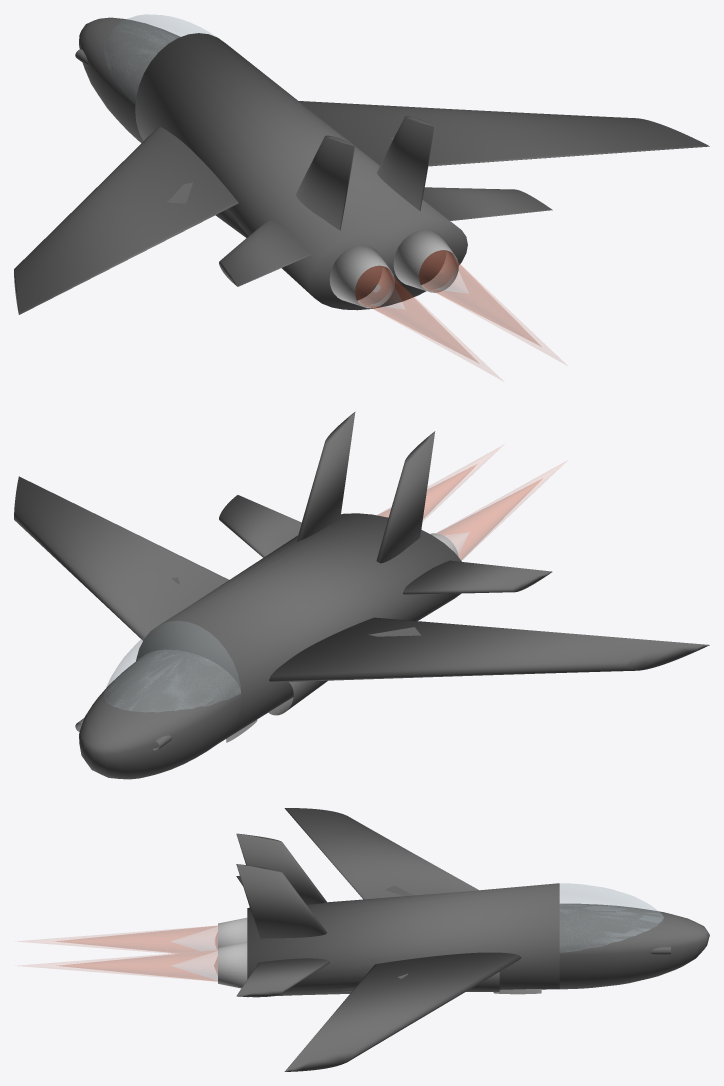
The model's file is jetv2.glb.
3 renders of one model, top to bottom at view 1: azimuth 30°, elevation 25°; view 2: azimuth 150°, elevation 25°; view 3: azimuth 270°, elevation 25°, orthographic. The views are drawn at different scales.
Parts seen in each view (by area): view 1: Cone, NACA0010, NACA0010.001, Sphere, Sphere.001, NACA0010.005, NACA0010.004, NACA0010.003, NACA0010.002, Cone.003, Cone.002, Cone.001 (+3 smaller); view 2: Cone, NACA0010, Sphere, NACA0010.001, Sphere.001, NACA0010.005, NACA0010.003, NACA0010.004, NACA0010.002, Cone.001, Cone.007; view 3: Cone, NACA0010.001, Sphere, NACA0010, Sphere.001, NACA0010.004, NACA0010.005, NACA0010.002, Cone.007, Cone.001, Cone.003, Cone.002 (+1 smaller).
Boxes of the visible parts, box(x1,y1,x2,y2) form: Cone: box(135, 33, 467, 310); NACA0010: box(14, 126, 238, 314); NACA0010.001: box(299, 101, 709, 166); Sphere: box(79, 17, 180, 142); Sphere.001: box(104, 14, 215, 103); NACA0010.005: box(296, 135, 355, 230); NACA0010.004: box(376, 116, 435, 210); NACA0010.003: box(219, 219, 311, 286); NACA0010.002: box(422, 187, 552, 220); Cone.003: box(393, 229, 458, 292); Cone.002: box(329, 245, 394, 308); Cone.001: box(365, 272, 478, 362); Cone: box(136, 513, 461, 742); NACA0010: box(269, 617, 709, 682); Sphere: box(79, 649, 241, 779); NACA0010.001: box(14, 476, 228, 640); Sphere.001: box(104, 621, 240, 711); NACA0010.005: box(376, 431, 435, 563); NACA0010.003: box(403, 560, 552, 594); NACA0010.004: box(296, 412, 355, 541); NACA0010.002: box(219, 495, 301, 557); Cone.001: box(437, 479, 541, 559); Cone.007: box(378, 465, 475, 518); Cone: box(247, 883, 559, 997); NACA0010.001: box(284, 952, 521, 1071); Sphere: box(559, 903, 709, 989); NACA0010: box(284, 808, 478, 899); Sphere.001: box(560, 883, 663, 952); NACA0010.004: box(236, 864, 326, 938); NACA0010.005: box(236, 833, 326, 904); NACA0010.002: box(236, 958, 329, 997); Cone.007: box(60, 950, 217, 981); Cone.001: box(57, 926, 217, 952); Cone.003: box(218, 942, 247, 988); Cone.002: box(218, 917, 247, 947).
Bounding box in the file's own units: 25.97 × 6.27 × 28.97.
